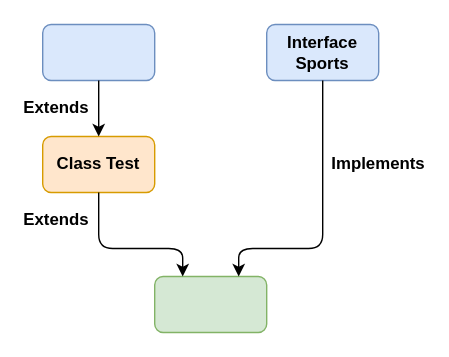
The diagram is 449 pixels wide and 357 high, and some of its shapes have lost their labels. The shapes that lost their labels are listed below. From the top down, each one's box as (x1, y1, x2, y2) in pixels, then its label:
(41, 23, 155, 80): Class Student
(153, 275, 267, 332): Results
